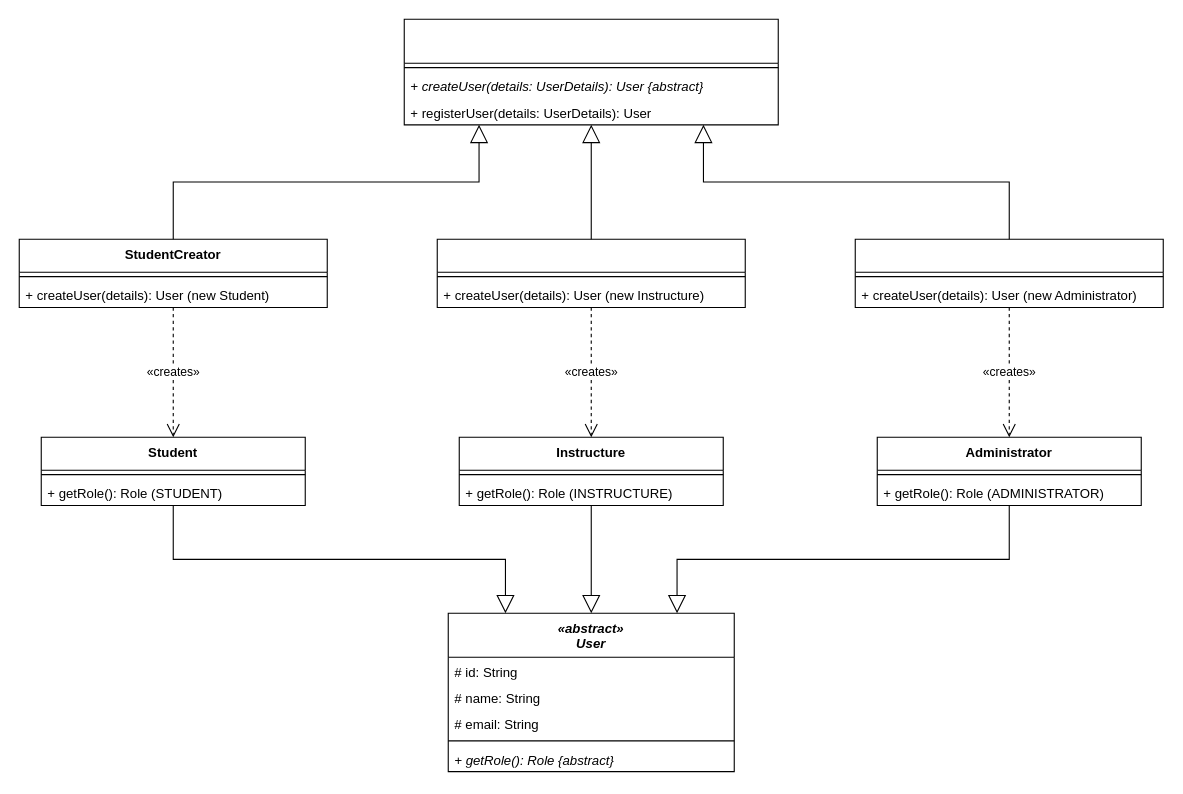
This 1183x794 diagram has some shape labels left out. The shapes that lost their labels are listed below. From the top down, each one's box as (x1, y1, x2, y2) in pixels, then its label:
(403, 18, 778, 125): «abstract» UserCreator
(436, 238, 745, 307): InstructureCreator
(854, 238, 1163, 307): AdministratorCreator
